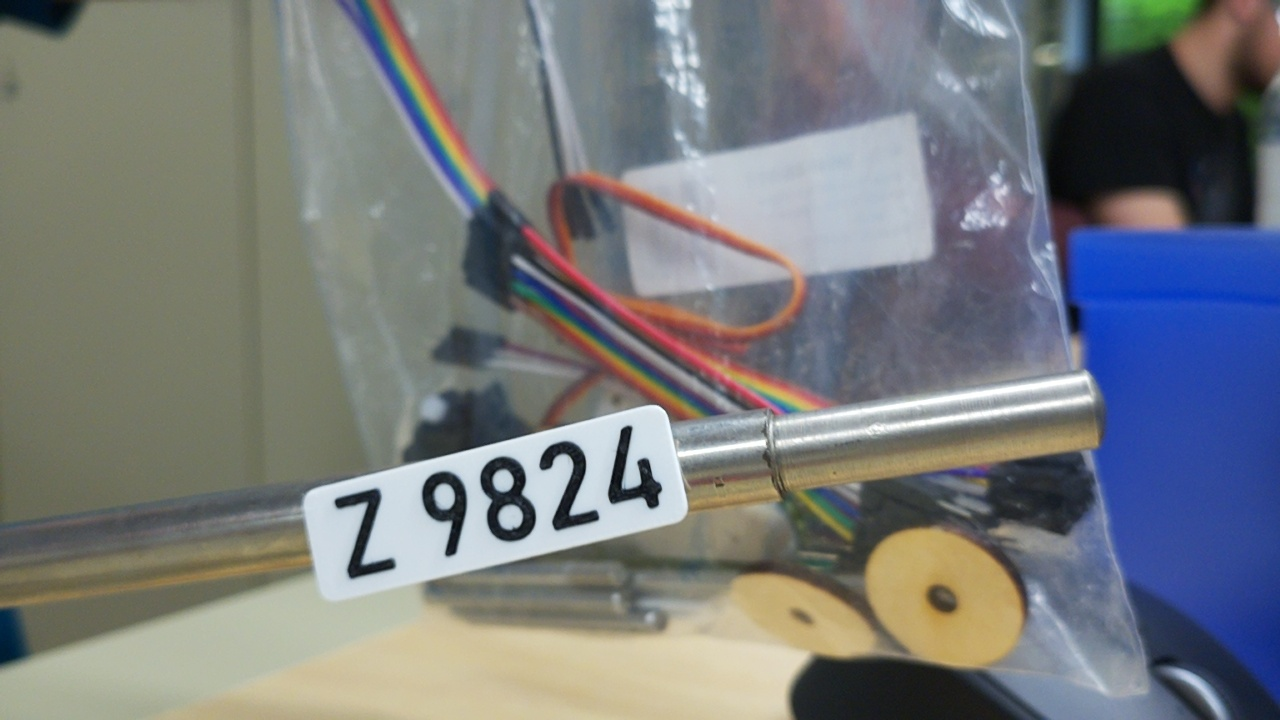license_plate: (301, 403, 691, 604)
